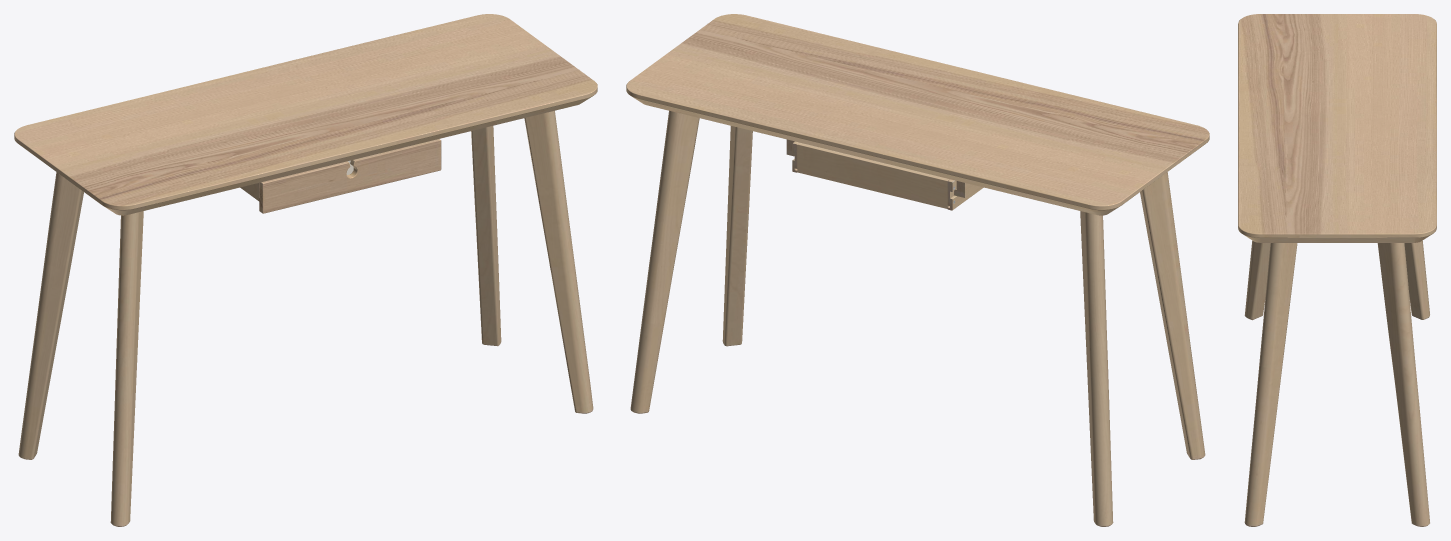
The model's file is LISABO desk.glb.
3 views of the same model, side by side, from view 1: azimuth 30°, elevation 25°; view 2: azimuth 150°, elevation 25°; view 3: azimuth 270°, elevation 25° (orthographic). The views are drawn at different scales.
Parts seen in each view (by area): view 1: model; view 2: model; view 3: model.
Part boxes in pixels (bbox=[...]): model: bbox=[14, 14, 597, 526]; model: bbox=[626, 14, 1209, 526]; model: bbox=[1238, 14, 1436, 526].
Size of the model in its own units: 1.18 by 0.7404 by 0.4501.
1 material, 1 textured.
